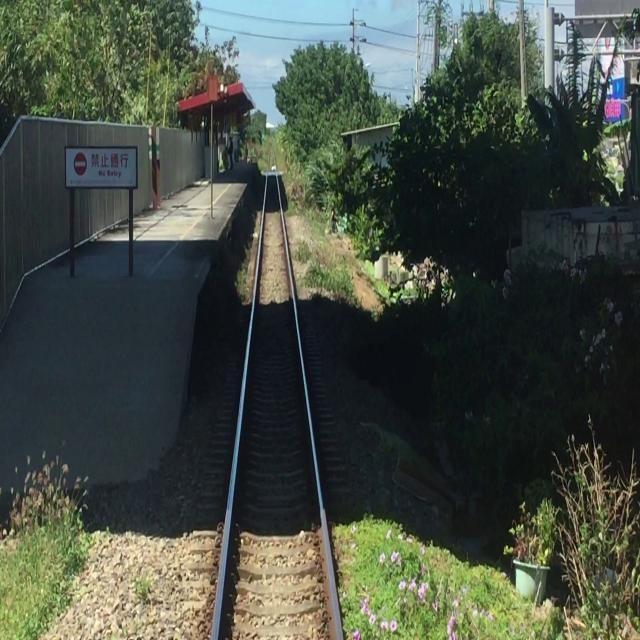track: (209, 137, 349, 640)
